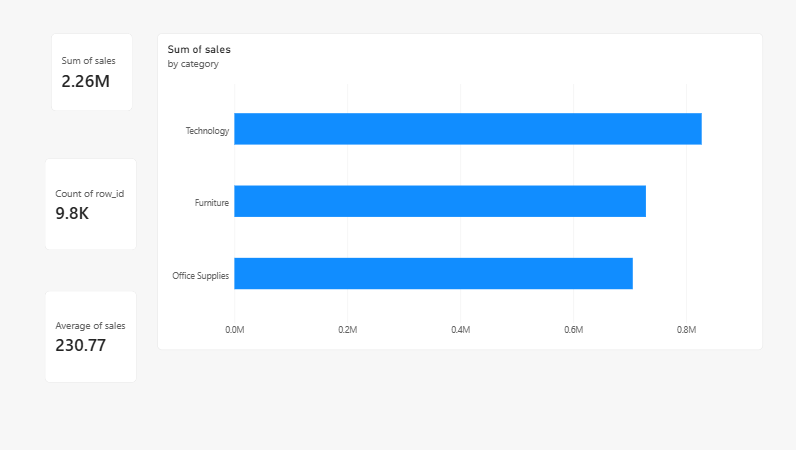

Layout of this report page (visuals, bound fields, positions):
{"tool":"powerbi","page":{"name":"Page 1","canvas":[1920,1080],"ordinal":0},"visuals":[{"type":"cardVisual","fields":{"Data":["Sum(superstore_db ventas.sales)"]},"box":[121.4,67.9,133.8,127.6],"z":0},{"type":"cardVisual","fields":{"Data":["CountNonNull(superstore_db ventas.row_id)"]},"box":[113,272,150,150],"z":1000},{"type":"cardVisual","fields":{"Data":["Avg(superstore_db ventas.sales)"]},"box":[113,487,150,150],"z":2000},{"type":"barChart","fields":{"Category":["superstore_db ventas.category"],"Y":["Sum(superstore_db ventas.sales)"]},"box":[296.4,67.9,988,516.6],"z":2001}]}

Visuals, with their boxes in screenshot pixels (x1, y1, x2, y2), scaled from the page's 1920x1080 canvas onto the 796x450 screenshot:
cardVisual - Sum(superstore_db ventas.sales): [left=50, top=28, right=106, bottom=81]
cardVisual - CountNonNull(superstore_db ventas.row_id): [left=47, top=113, right=109, bottom=176]
cardVisual - Avg(superstore_db ventas.sales): [left=47, top=203, right=109, bottom=265]
barChart - superstore_db ventas.category x Sum(superstore_db ventas.sales): [left=123, top=28, right=532, bottom=244]
